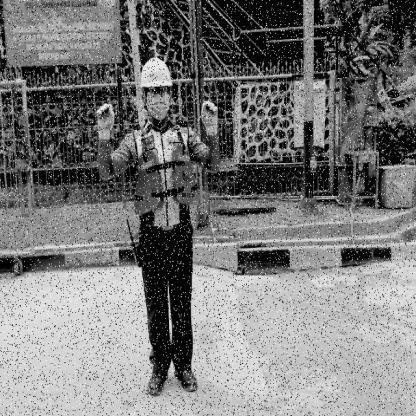boots: (144, 353, 173, 394), (171, 356, 202, 393)
gloves: (92, 103, 118, 141), (198, 98, 222, 134)
goggles: (143, 88, 172, 97)
helmet: (138, 58, 174, 87)
mask: (147, 97, 171, 119)
vest: (132, 142, 200, 210)
